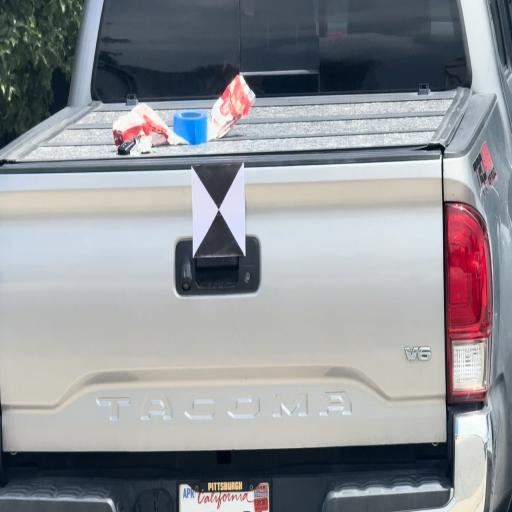target: (192, 165, 245, 256)
